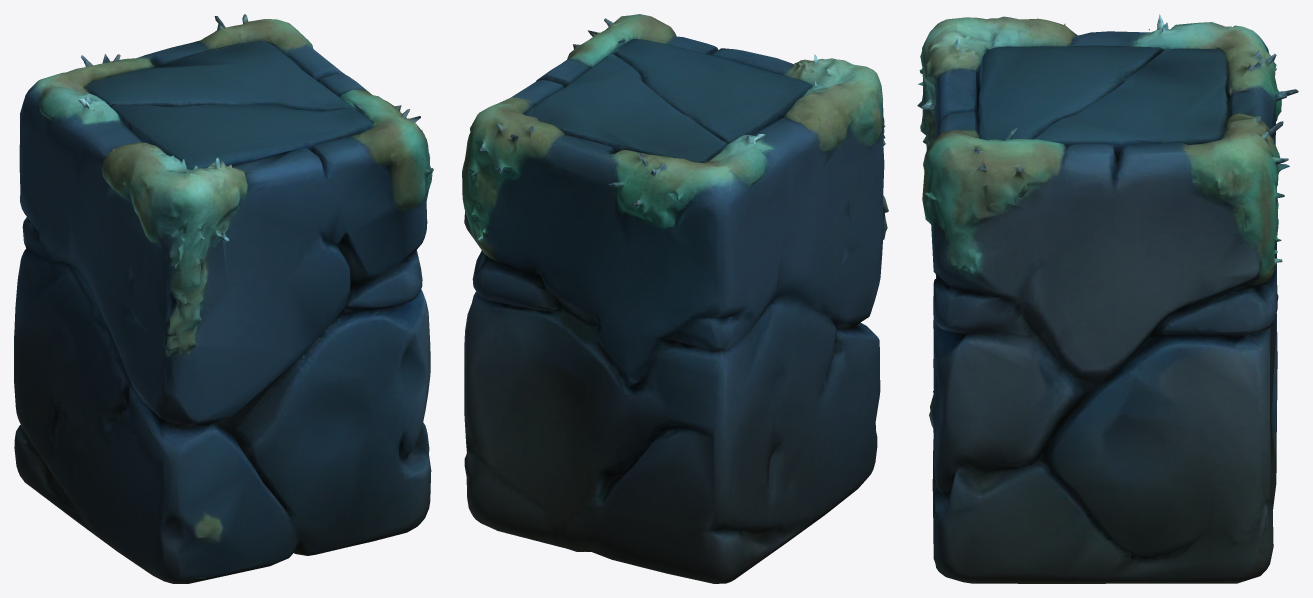
3 renders of one model, left to right at view 1: azimuth 30°, elevation 25°; view 2: azimuth 150°, elevation 25°; view 3: azimuth 270°, elevation 25°, orthographic. The views are drawn at different scales.
Visible parts, largest first — view 1: world; view 2: world; view 3: world.
Boxes of the visible parts, box(x1,y1,x2,y2) form: world: box(14, 14, 433, 583); world: box(462, 14, 888, 583); world: box(917, 14, 1298, 583).
Size of the model in its own units: 0.7135 by 0.9982 by 0.7674.
1 material, 1 textured.
